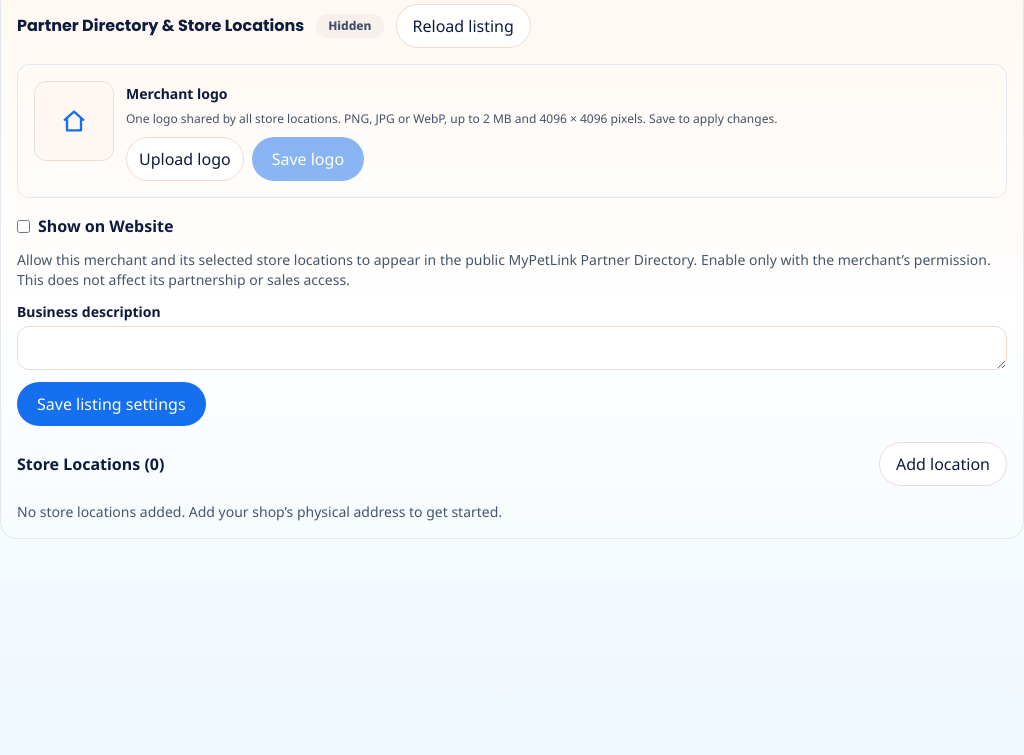
Merchant listing management › gives an empty merchant a clear location action without changing publication defaults
Expected: the text "No store locations added" is shown, [17, 502, 502, 521]
Expected: the heading "Store Locations (0)" is shown, [17, 452, 164, 476]
Step 1. Click the button "Add location" → (943, 464), box [879, 442, 1007, 486]
(page scrolled)
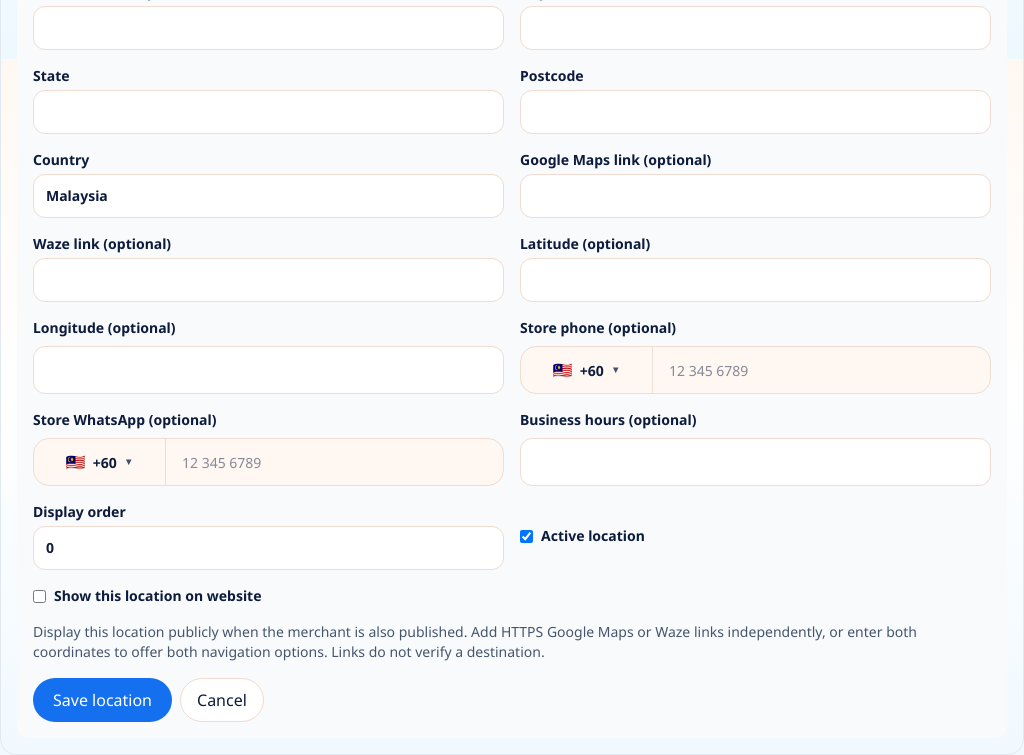
Result: the checkbox labelled "Show this location on website" is not checked at [33, 590, 46, 602]
